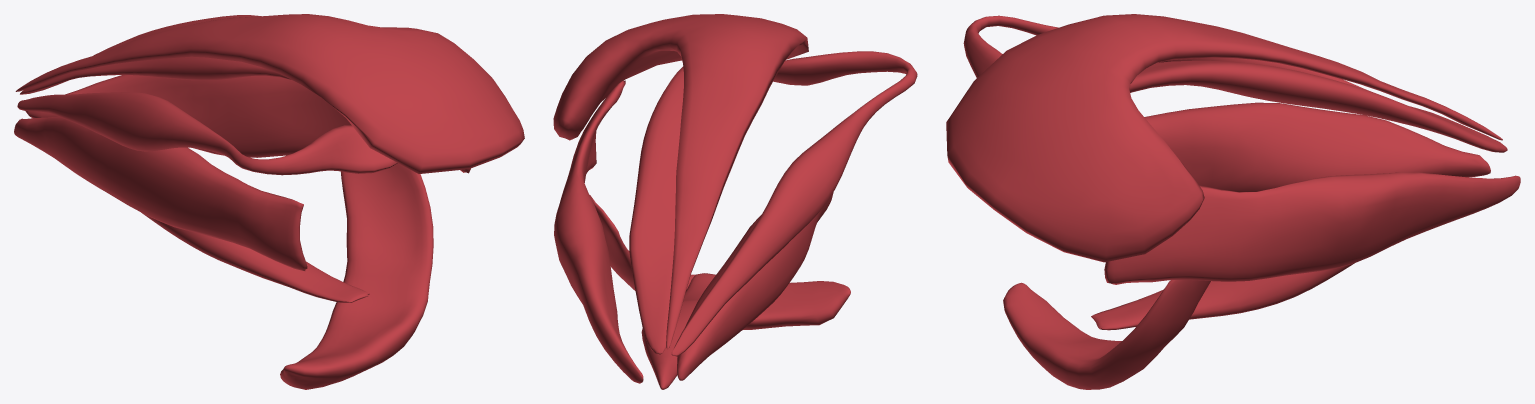
File: VH_F_Muscles_Eye_L.glb
3 views of the same model, side by side, from view 1: azimuth 30°, elevation 25°; view 2: azimuth 150°, elevation 25°; view 3: azimuth 270°, elevation 25° (orthographic). The views are drawn at different scales.
Parts seen in each view (by area): view 1: VH_F_levator_palpebrae_superioris_L, VH_F_inferior_oblique_extraocular_muscle_L, VH_F_medial_rectus_extraocular_muscle_L, VH_F_superior_oblique_extraocular_muscle_L, VH_F_lateral_rectus_extraocular_muscle_L, VH_F_inferior_rectus_extraocular_muscle_L, VH_F_superior_rectus_extraocular_muscle_L; view 2: VH_F_levator_palpebrae_superioris_L, VH_F_superior_oblique_extraocular_muscle_L, VH_F_superior_rectus_extraocular_muscle_L, VH_F_lateral_rectus_extraocular_muscle_L, VH_F_medial_rectus_extraocular_muscle_L, VH_F_inferior_oblique_extraocular_muscle_L, VH_F_inferior_rectus_extraocular_muscle_L; view 3: VH_F_levator_palpebrae_superioris_L, VH_F_lateral_rectus_extraocular_muscle_L, VH_F_medial_rectus_extraocular_muscle_L, VH_F_inferior_oblique_extraocular_muscle_L, VH_F_superior_rectus_extraocular_muscle_L, VH_F_inferior_rectus_extraocular_muscle_L, VH_F_superior_oblique_extraocular_muscle_L.
Part boxes in pixels (box(x1,y1,x2,y2)): VH_F_levator_palpebrae_superioris_L: box(15, 14, 524, 173); VH_F_inferior_oblique_extraocular_muscle_L: box(280, 163, 433, 389); VH_F_medial_rectus_extraocular_muscle_L: box(14, 116, 307, 270); VH_F_superior_oblique_extraocular_muscle_L: box(17, 92, 397, 175); VH_F_lateral_rectus_extraocular_muscle_L: box(25, 75, 470, 173); VH_F_inferior_rectus_extraocular_muscle_L: box(141, 212, 369, 302); VH_F_superior_rectus_extraocular_muscle_L: box(20, 15, 292, 94); VH_F_levator_palpebrae_superioris_L: box(553, 14, 808, 349); VH_F_superior_oblique_extraocular_muscle_L: box(671, 51, 917, 356); VH_F_superior_rectus_extraocular_muscle_L: box(629, 66, 683, 354); VH_F_lateral_rectus_extraocular_muscle_L: box(554, 80, 643, 383); VH_F_medial_rectus_extraocular_muscle_L: box(677, 192, 833, 380); VH_F_inferior_oblique_extraocular_muscle_L: box(589, 194, 850, 330); VH_F_inferior_rectus_extraocular_muscle_L: box(641, 273, 715, 389); VH_F_levator_palpebrae_superioris_L: box(946, 14, 1502, 262); VH_F_lateral_rectus_extraocular_muscle_L: box(1104, 172, 1520, 284); VH_F_medial_rectus_extraocular_muscle_L: box(1144, 102, 1490, 191); VH_F_inferior_oblique_extraocular_muscle_L: box(1003, 280, 1210, 389); VH_F_superior_rectus_extraocular_muscle_L: box(1129, 60, 1507, 152); VH_F_inferior_rectus_extraocular_muscle_L: box(1091, 263, 1354, 330); VH_F_superior_oblique_extraocular_muscle_L: box(963, 15, 1368, 90).
Size of the model in its own units: 0.0367 by 0.0358 by 0.0545.
